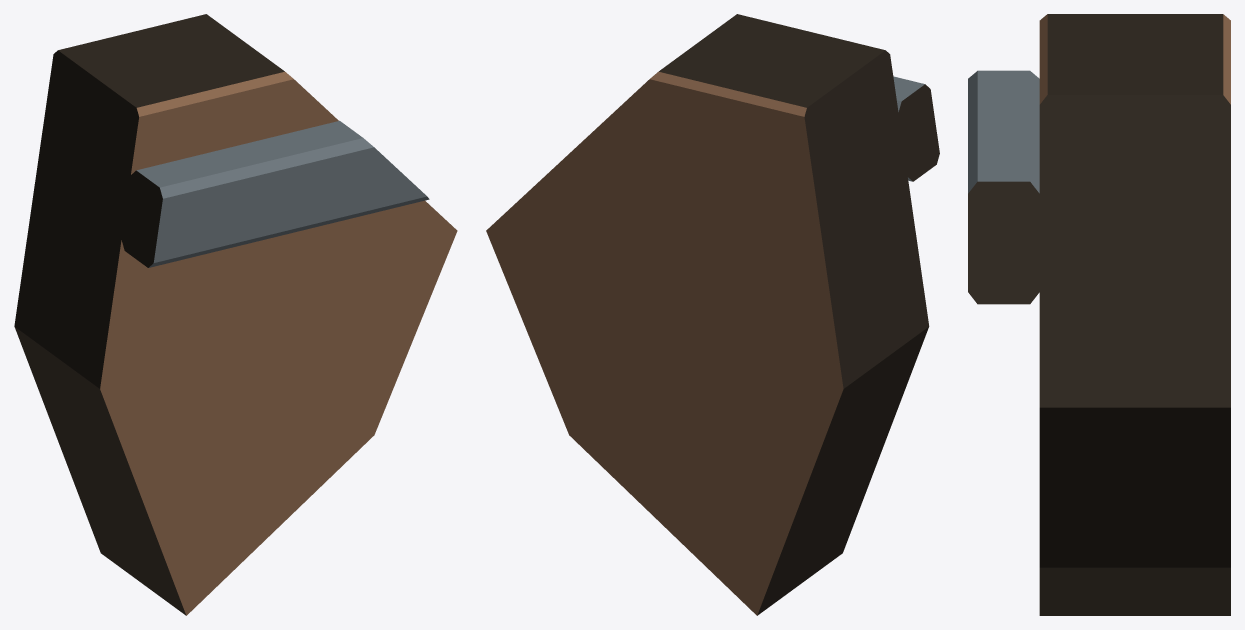
Rendered from SM_DoorShard_03_37.fbx.
3 views of the same model, side by side, from view 1: azimuth 30°, elevation 25°; view 2: azimuth 150°, elevation 25°; view 3: azimuth 270°, elevation 25° (orthographic). The views are drawn at different scales.
Parts seen in each view (by area): view 1: SM_DoorShard_03_37; view 2: SM_DoorShard_03_37; view 3: SM_DoorShard_03_37.
Part boxes in pixels (x1,y1,x2,y2): SM_DoorShard_03_37: (14, 14, 457, 615); SM_DoorShard_03_37: (486, 14, 939, 615); SM_DoorShard_03_37: (968, 14, 1230, 615).
Size of the model in its own units: 38.54 by 22 by 53.24.
